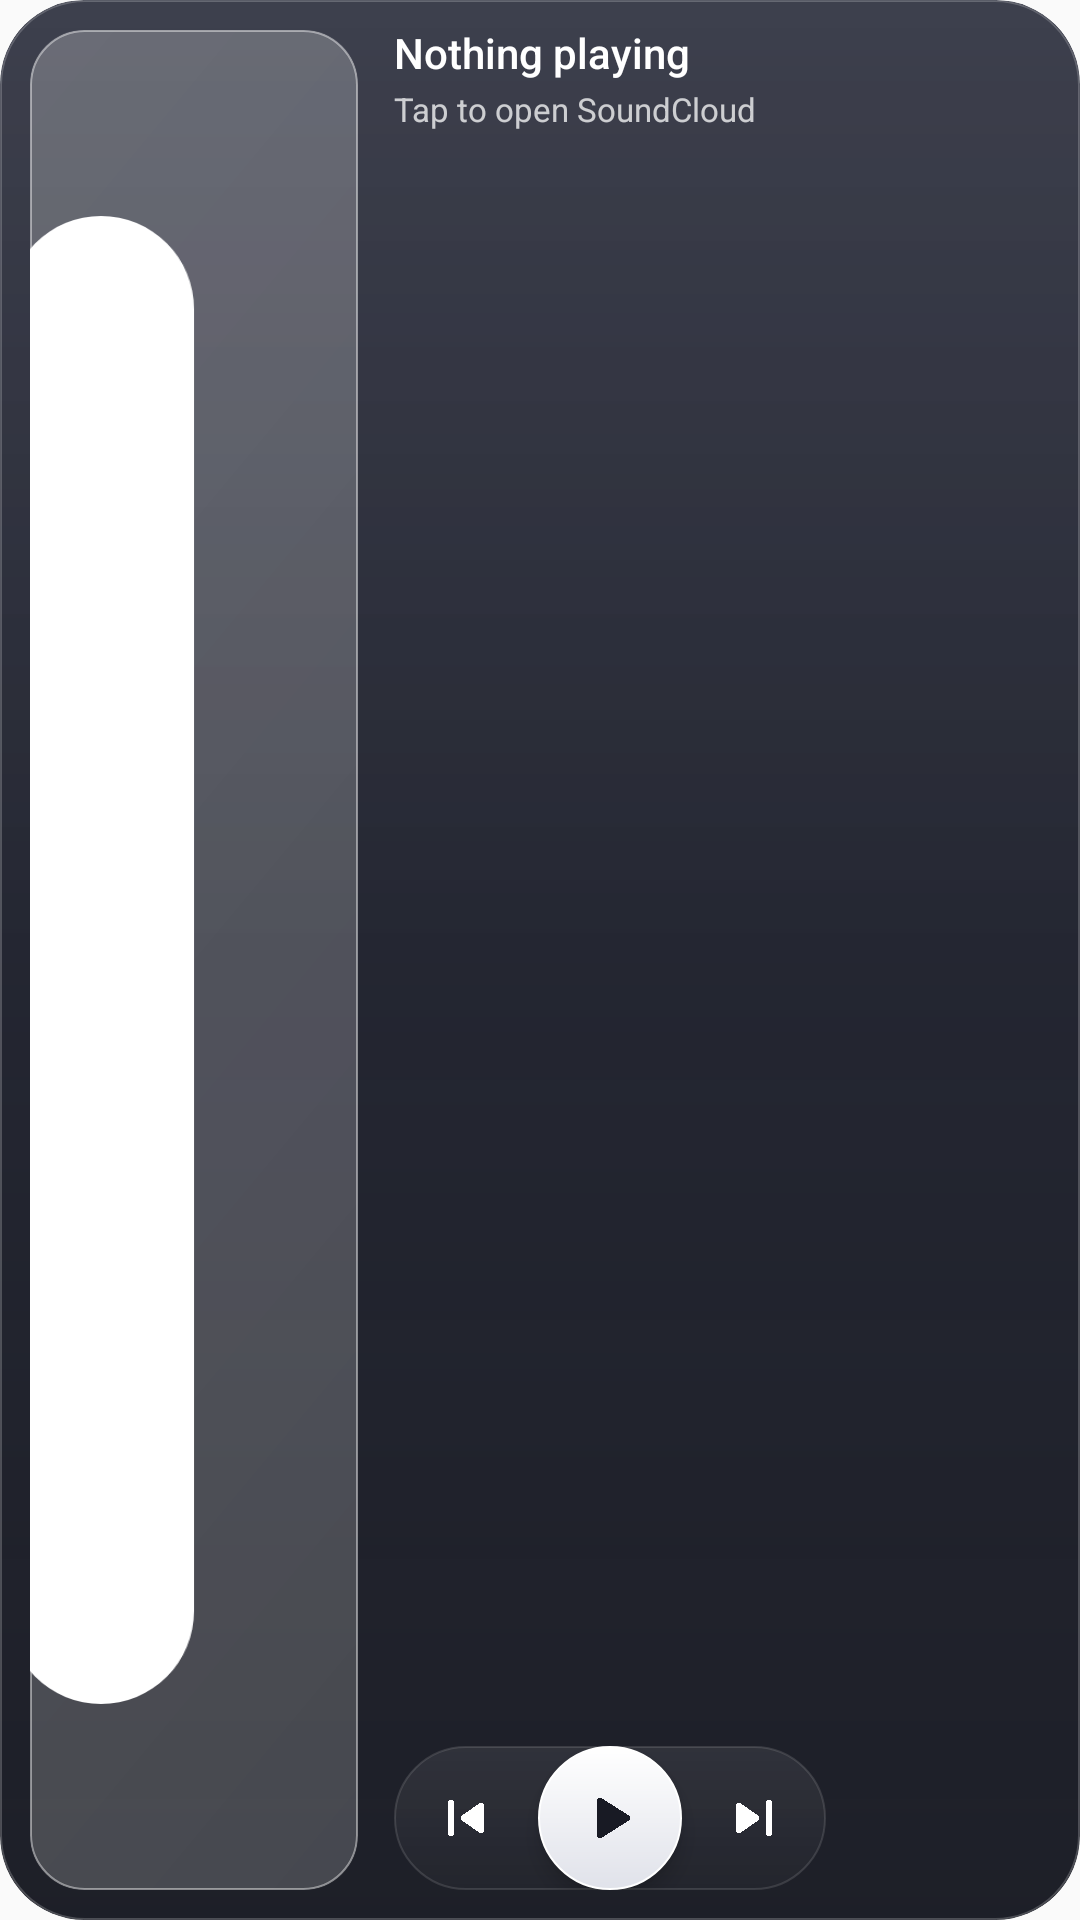

Where to tap for icons on this 1080 × 1920 app screen, as (x,y):
Next track: (754,1818)
play: (613,1818)
Previous track: (466,1818)
